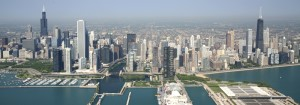willis: (38, 2, 50, 37)
